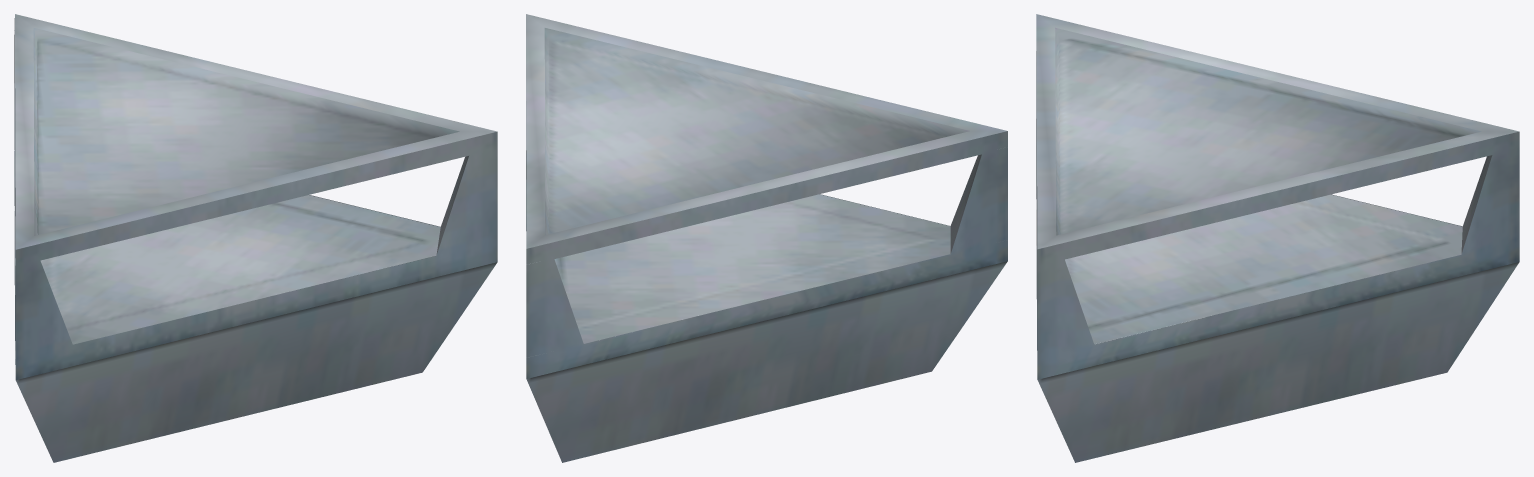
File: frn_all_tech_end_table_s01.fbx
The picture shows the model from 3 angles, left to right: view 1: azimuth 30°, elevation 25°; view 2: azimuth 150°, elevation 25°; view 3: azimuth 270°, elevation 25°; orthographic projection.
Visible parts, largest first — view 1: mesh_node; view 2: mesh_node; view 3: mesh_node.
Part boxes in pixels (x1,y1,x2,y2): mesh_node: [14, 14, 497, 462]; mesh_node: [526, 14, 1007, 462]; mesh_node: [1036, 14, 1519, 462].
Bounding box in the file's own units: 0.8397 × 0.4008 × 0.7285.
